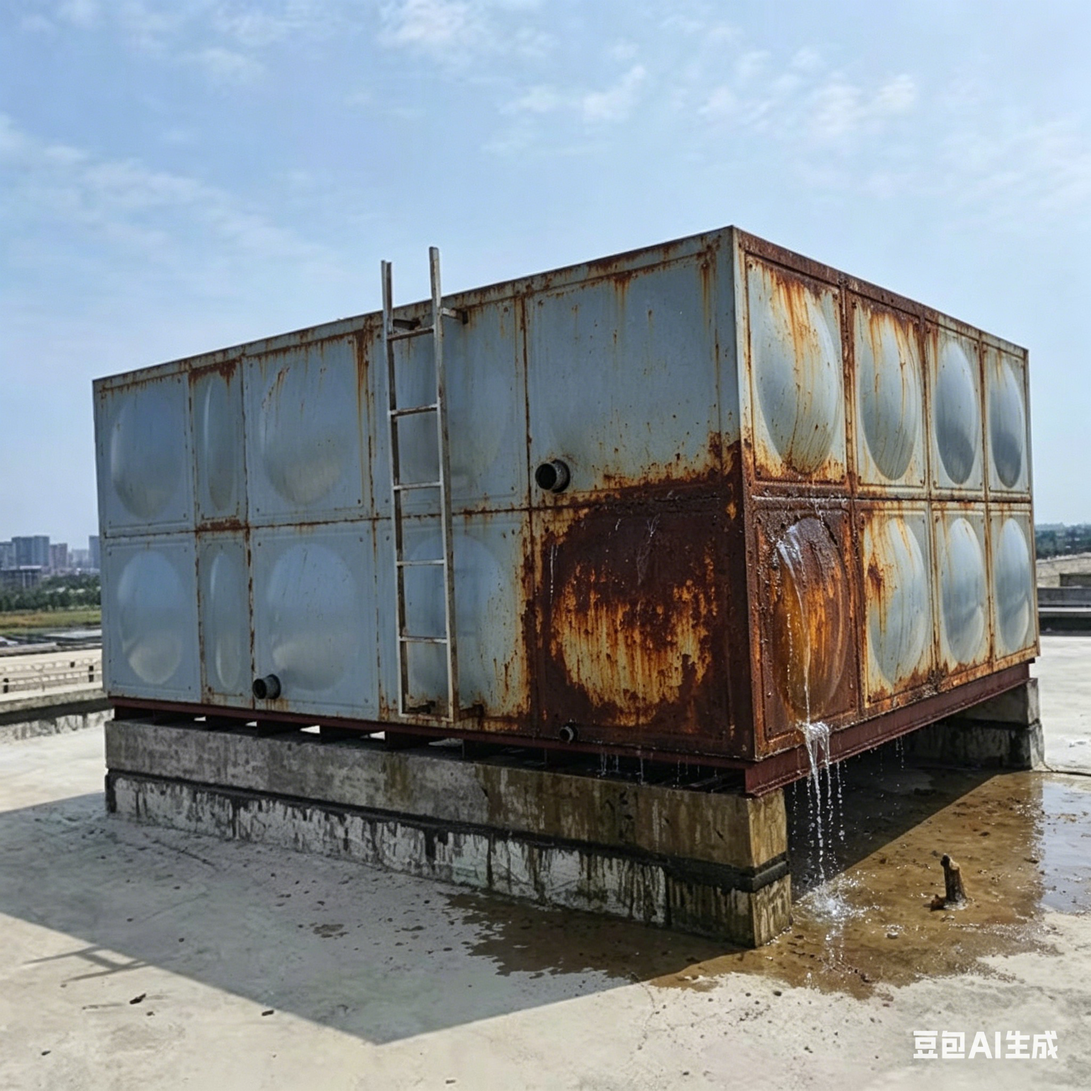Leakage: (911, 764, 1091, 959), (471, 884, 776, 995), (788, 710, 892, 1009)
